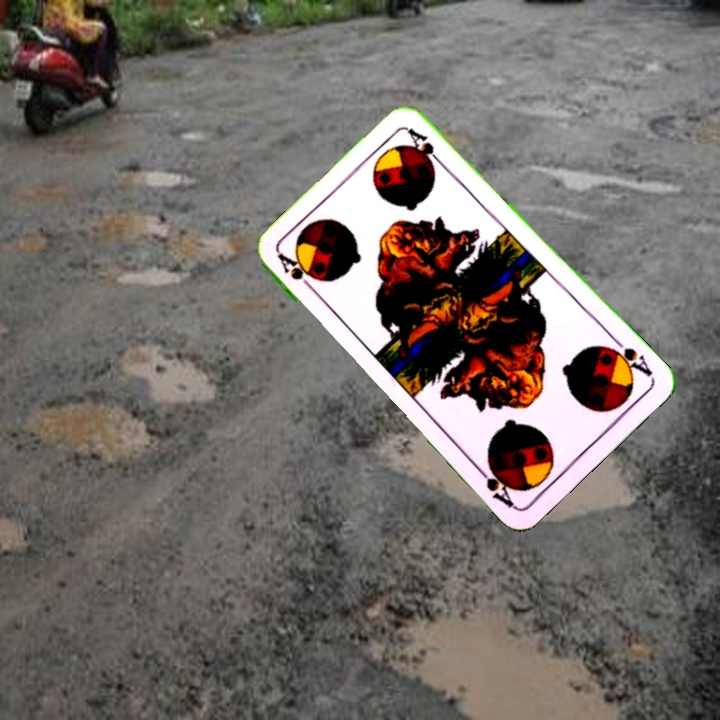SA: (602, 333, 656, 380), (274, 249, 320, 297)
